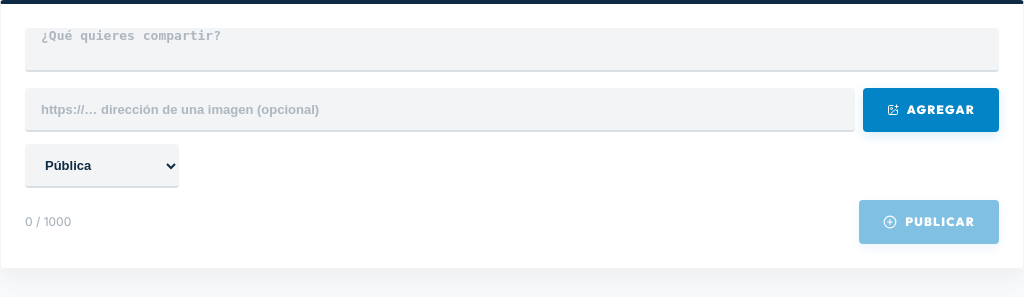
Test case: PostComposer › FC212 F2 (T2) › U ⊥: la dirección pendiente http://cdn.example/foto.png detiene el envío con el aviso y no sale del navegador
The width and height of the screenshot is (1024, 297).
Type "Con foto" into the text box with test id "composer-text" at (512, 50), box [25,28,999,72]
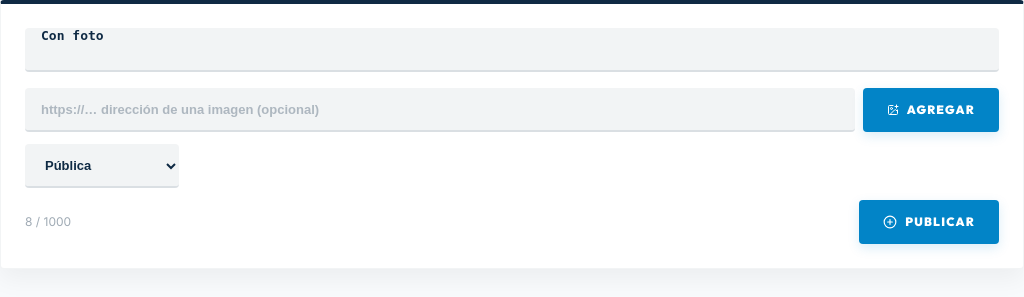
Type "http://cdn.example/foto.png" into the field with test id "composer-image-input" at (440, 110), box [25,88,855,132]
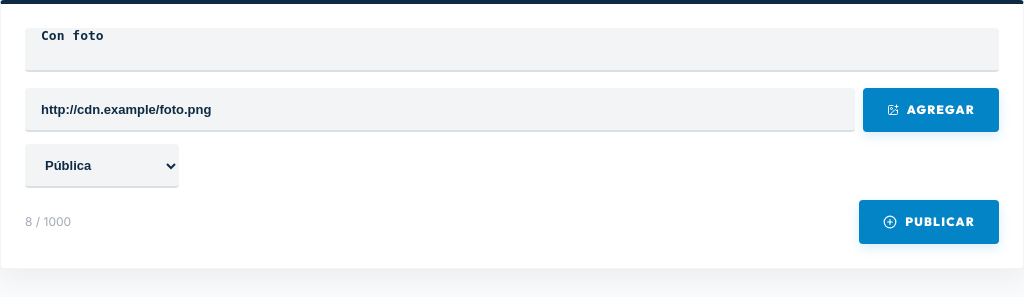
Click the button with test id "composer-submit" at (929, 222), box [859,200,999,244]
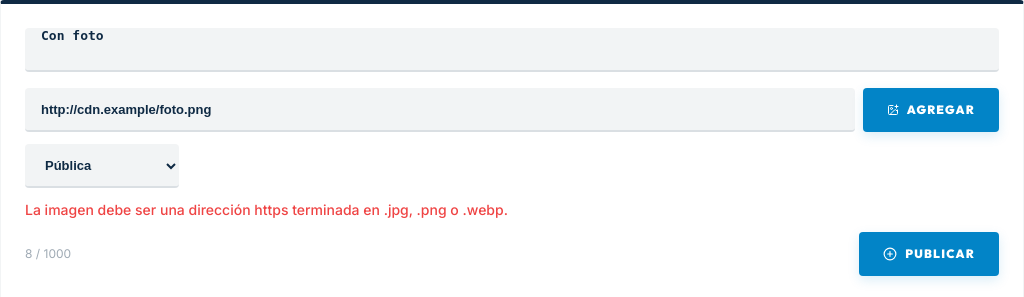
expect the message with test id "composer-error" shows ".jpg, .png o .webp": met, box [25,201,508,218]
